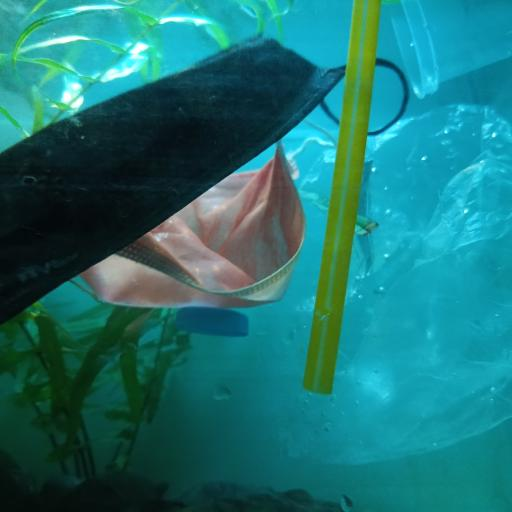bottle_cap: (175, 306, 249, 336)
mask: (0, 37, 411, 328), (80, 140, 305, 309)
plastic_bag: (290, 103, 512, 460)
plastic_cup: (389, 0, 512, 99)
plastic_straw: (302, 1, 386, 394)
